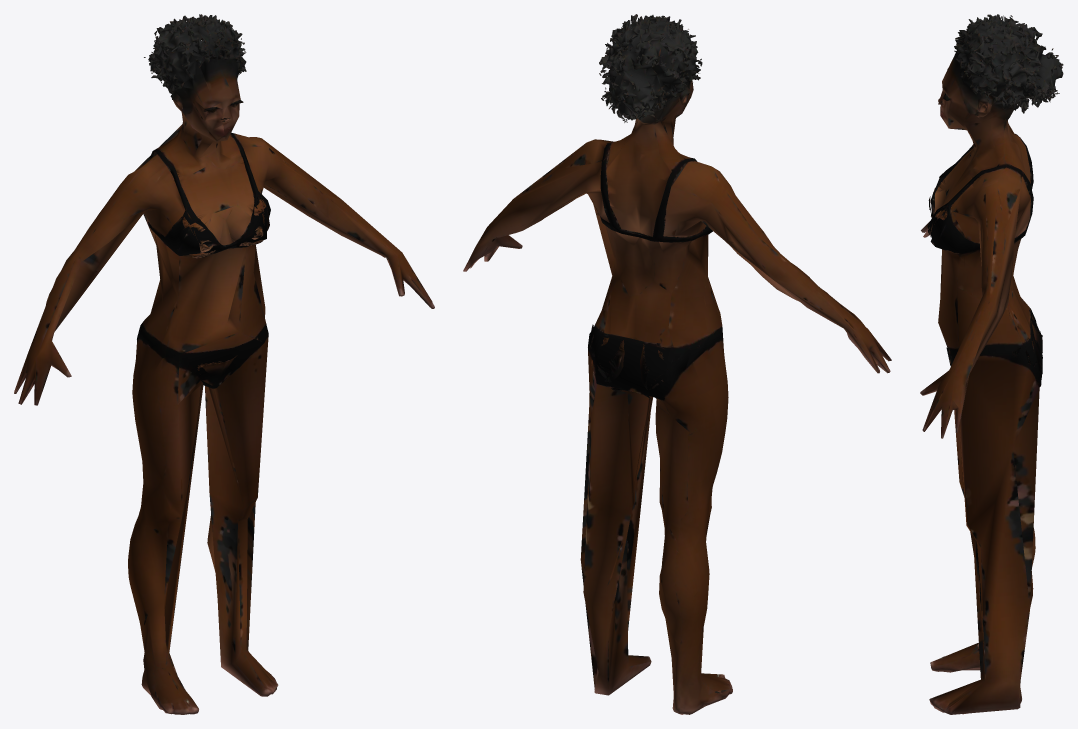
The model's file is 3d_male_model_uvsafe.glb.
3 renders of one model, left to right at view 1: azimuth 30°, elevation 25°; view 2: azimuth 150°, elevation 25°; view 3: azimuth 270°, elevation 25°, orthographic.
Parts seen in each view (by area): view 1: geometry_0; view 2: geometry_0; view 3: geometry_0.
Part boxes in pixels (<box>): geometry_0: <box>14,14,434,714</box>; geometry_0: <box>463,14,891,714</box>; geometry_0: <box>920,14,1063,714</box>.
Size of the model in its own units: 0.6501 by 0.9977 by 0.1937.
Materials: 1 (1 with a texture image).
